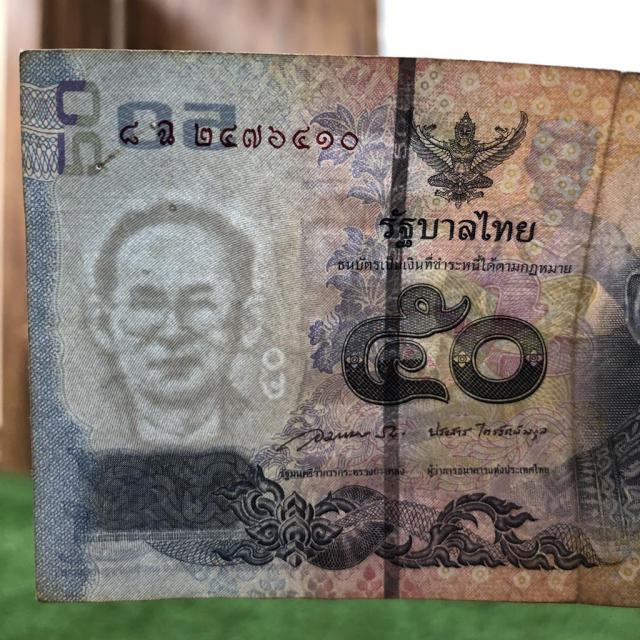THAI50: (20, 49, 639, 606)
